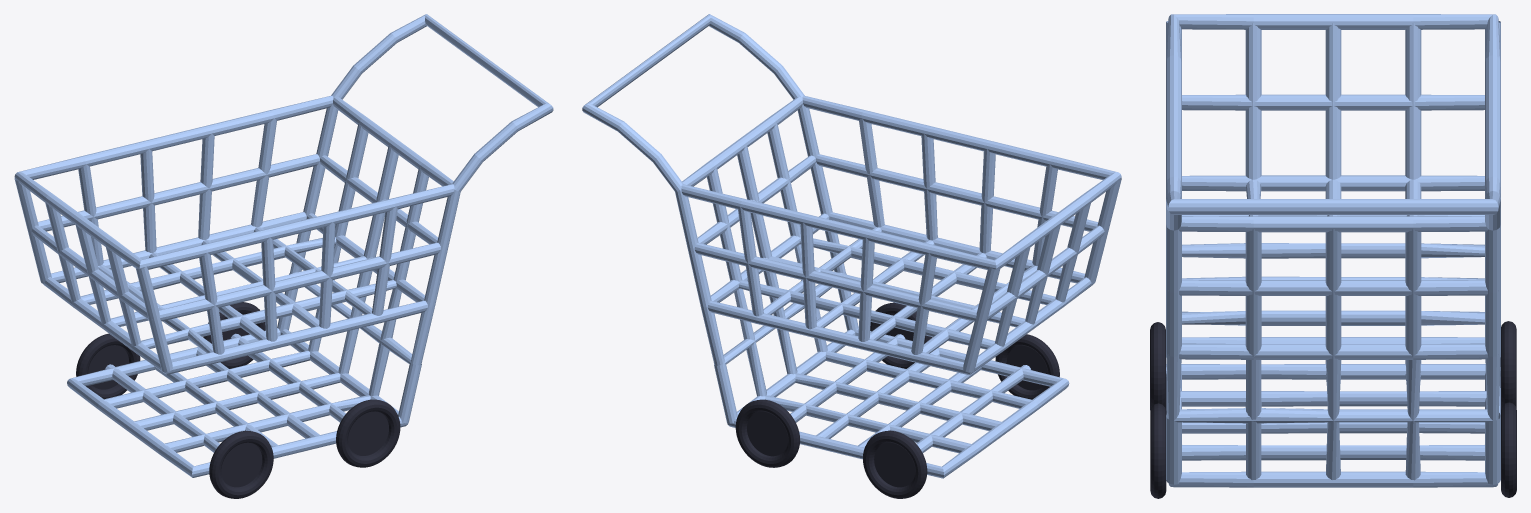
The model's file is Alsveris_Arabas.fbx.
The picture shows the model from 3 angles, left to right: view 1: azimuth 30°, elevation 25°; view 2: azimuth 150°, elevation 25°; view 3: azimuth 270°, elevation 25°; orthographic projection. The views are drawn at different scales.
Visible parts, largest first — view 1: Cube.001, Torus.001, Torus, Torus.002, Torus.003; view 2: Cube.001, Torus.003, Torus.002, Torus, Torus.001; view 3: Cube.001, Torus.001, Torus.003, Torus.002, Torus.
Part boxes in pixels (<box>): Cube.001: <box>14,14,553,477</box>; Torus.001: <box>336,399,400,467</box>; Torus: <box>209,431,273,498</box>; Torus.002: <box>76,333,140,399</box>; Torus.003: <box>203,302,265,368</box>; Cube.001: <box>582,14,1121,478</box>; Torus.003: <box>735,399,800,467</box>; Torus.002: <box>863,430,927,498</box>; Torus: <box>995,334,1059,399</box>; Torus.001: <box>870,302,932,368</box>; Cube.001: <box>1166,14,1500,487</box>; Torus.001: <box>1150,403,1166,498</box>; Torus.003: <box>1501,402,1516,497</box>; Torus.002: <box>1500,321,1516,409</box>; Torus: <box>1150,322,1165,410</box>.
Size of the model in its own units: 397 by 286 by 230.
